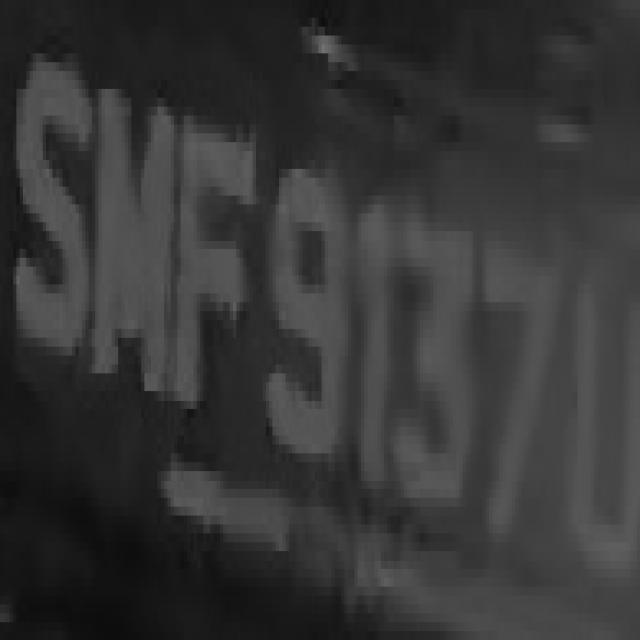1: (348, 169, 400, 524)
3: (404, 169, 466, 578)
7: (463, 178, 551, 604)
9: (262, 133, 354, 507)
F: (174, 80, 256, 418)
M: (92, 62, 174, 444)
S: (13, 36, 92, 391)
U: (558, 266, 637, 596)
